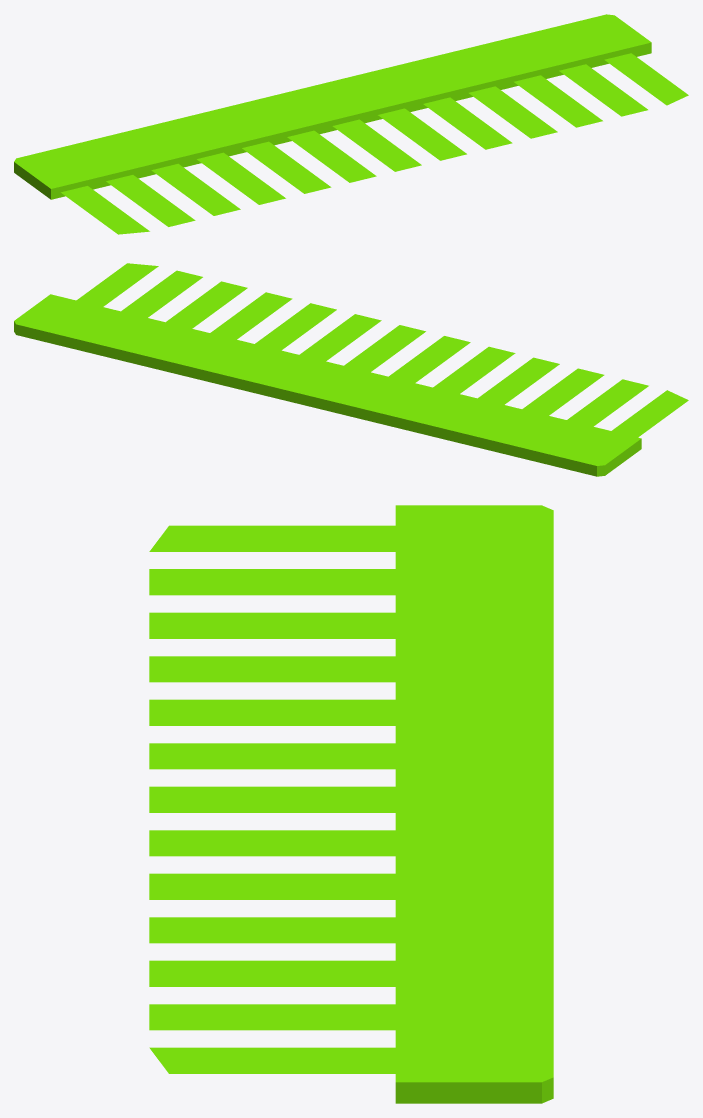
Rendered from Comb_D.FBX.
3 views of the same model, one above another, from view 1: azimuth 30°, elevation 25°; view 2: azimuth 150°, elevation 25°; view 3: azimuth 270°, elevation 25° (orthographic). The views are drawn at different scales.
Visible parts, largest first — view 1: Comb; view 2: Comb; view 3: Comb.
Boxes of the visible parts, left/top/right/bottom form: Comb: left=14, top=14, right=688, bottom=234; Comb: left=14, top=263, right=688, bottom=476; Comb: left=149, top=505, right=553, bottom=1103.
Size of the model in its own units: 116 by 2 by 34.39.
